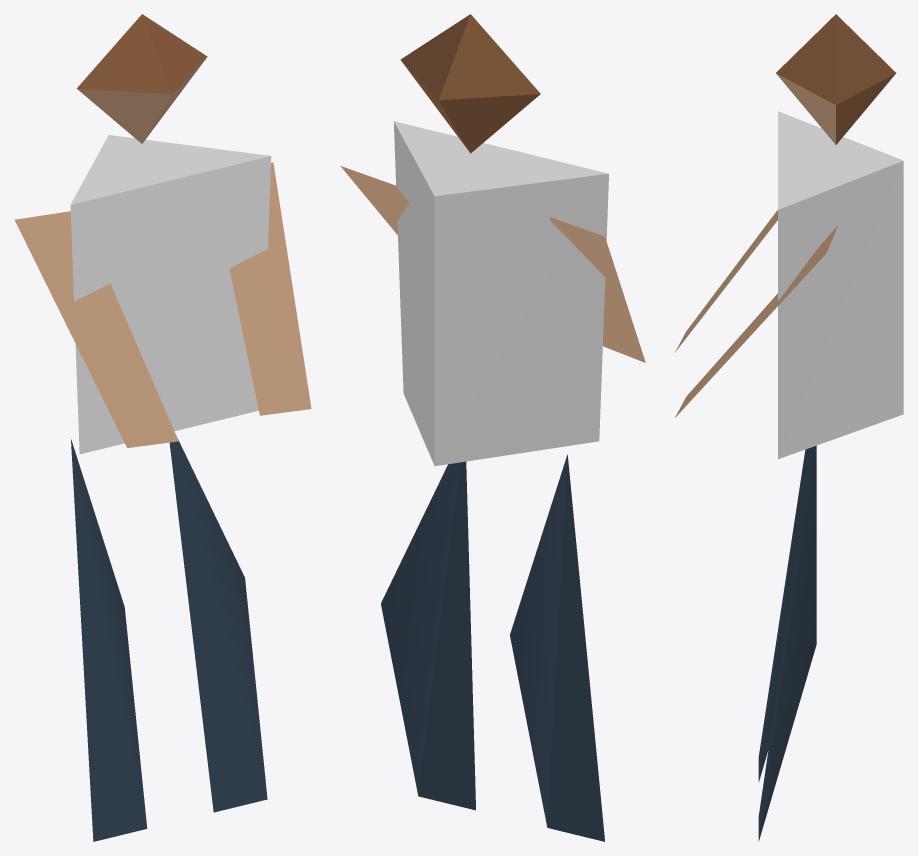
Rendered from fan-11.glb.
The picture shows the model from 3 angles, left to right: view 1: azimuth 30°, elevation 25°; view 2: azimuth 150°, elevation 25°; view 3: azimuth 270°, elevation 25°; orthographic projection. The views are drawn at different scales.
Visible parts, largest first — view 1: fan-11; view 2: fan-11; view 3: fan-11.
Boxes of the visible parts, x1,y1,x2,y2 form: fan-11: [14, 14, 311, 841]; fan-11: [340, 14, 645, 841]; fan-11: [675, 14, 903, 841].
Bounding box in the file's own units: 0.61 × 1.79 × 0.475.
